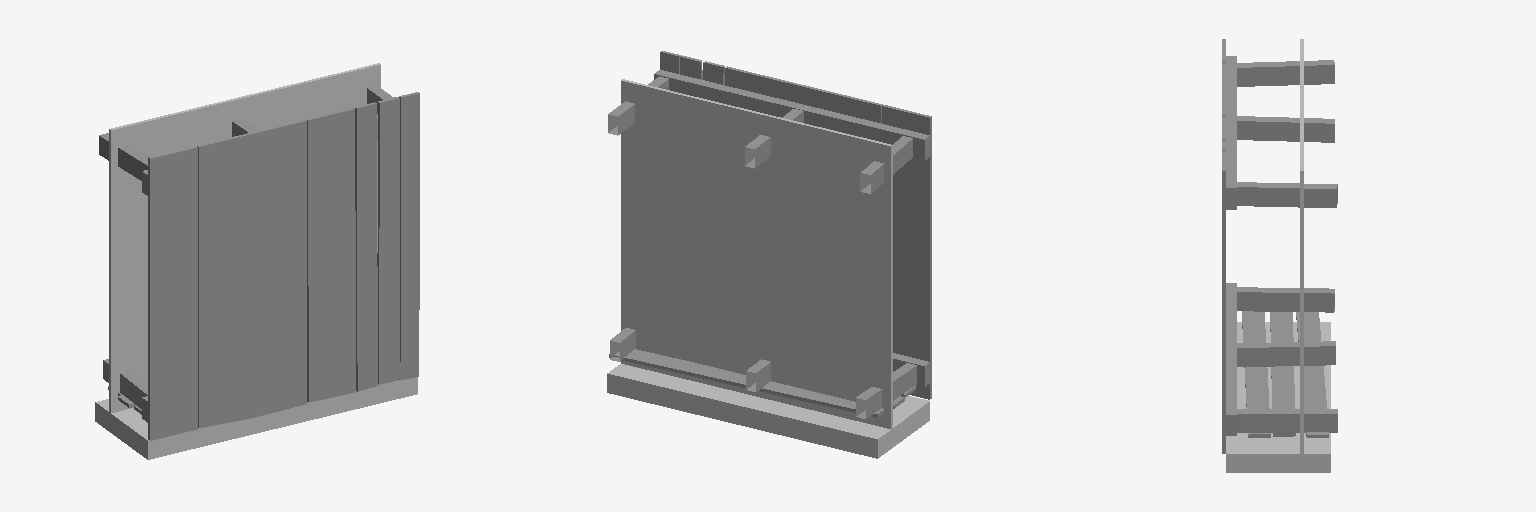
File: ext_oldwood_platform_4x4m_b.obj
3 renders of one model, left to right at view 1: azimuth 30°, elevation 25°; view 2: azimuth 150°, elevation 25°; view 3: azimuth 270°, elevation 25°, orthographic.
Parts seen in each view (by area): view 1: g_oldwood, c_box_001, c_box_002; view 2: c_box_001, g_oldwood, c_box_002; view 3: g_oldwood, c_box_002, c_box_001.
Part boxes in pixels (left/top/right/bottom): g_oldwood: left=99, top=85, right=419, bottom=440; c_box_001: left=109, top=63, right=380, bottom=412; c_box_002: left=95, top=377, right=417, bottom=459; c_box_001: left=621, top=79, right=892, bottom=428; g_oldwood: left=608, top=51, right=931, bottom=418; c_box_002: left=607, top=364, right=929, bottom=458; g_oldwood: left=1222, top=39, right=1337, bottom=453; c_box_002: left=1226, top=322, right=1330, bottom=472; c_box_001: left=1300, top=39, right=1303, bottom=453.
Bounding box in the file's own units: 400 × 428 × 149.